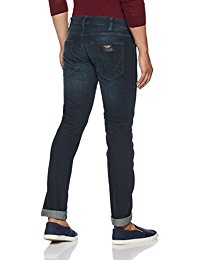Jeans: (45, 9, 142, 230)
